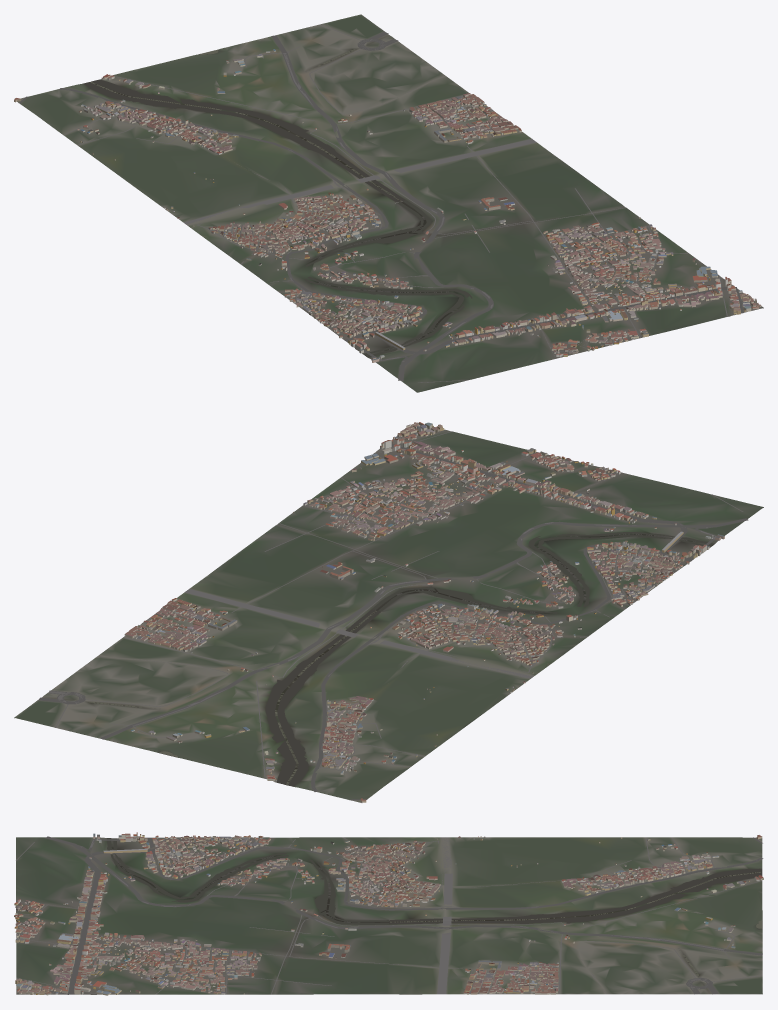
3 renders of one model, top to bottom at view 1: azimuth 30°, elevation 25°; view 2: azimuth 150°, elevation 25°; view 3: azimuth 270°, elevation 25°, orthographic. The views are drawn at different scales.
Parts seen in each view (by area): view 1: ground, buildings, roads, water; view 2: ground, buildings, roads, water; view 3: ground, buildings, roads, water.
Part boxes in pixels (box(x1,y1,x2,y2)): ground: box(17, 14, 763, 392); buildings: box(14, 49, 761, 362); roads: box(19, 24, 756, 382); water: box(83, 35, 557, 357); ground: box(14, 423, 763, 802); buildings: box(124, 422, 724, 802); roads: box(39, 428, 748, 800); water: box(45, 532, 713, 786); ground: box(16, 837, 762, 994); buildings: box(14, 832, 763, 995); roads: box(16, 836, 763, 994); water: box(107, 838, 762, 992).
Size of the model in its own units: 1420 by 34.74 by 2817.
